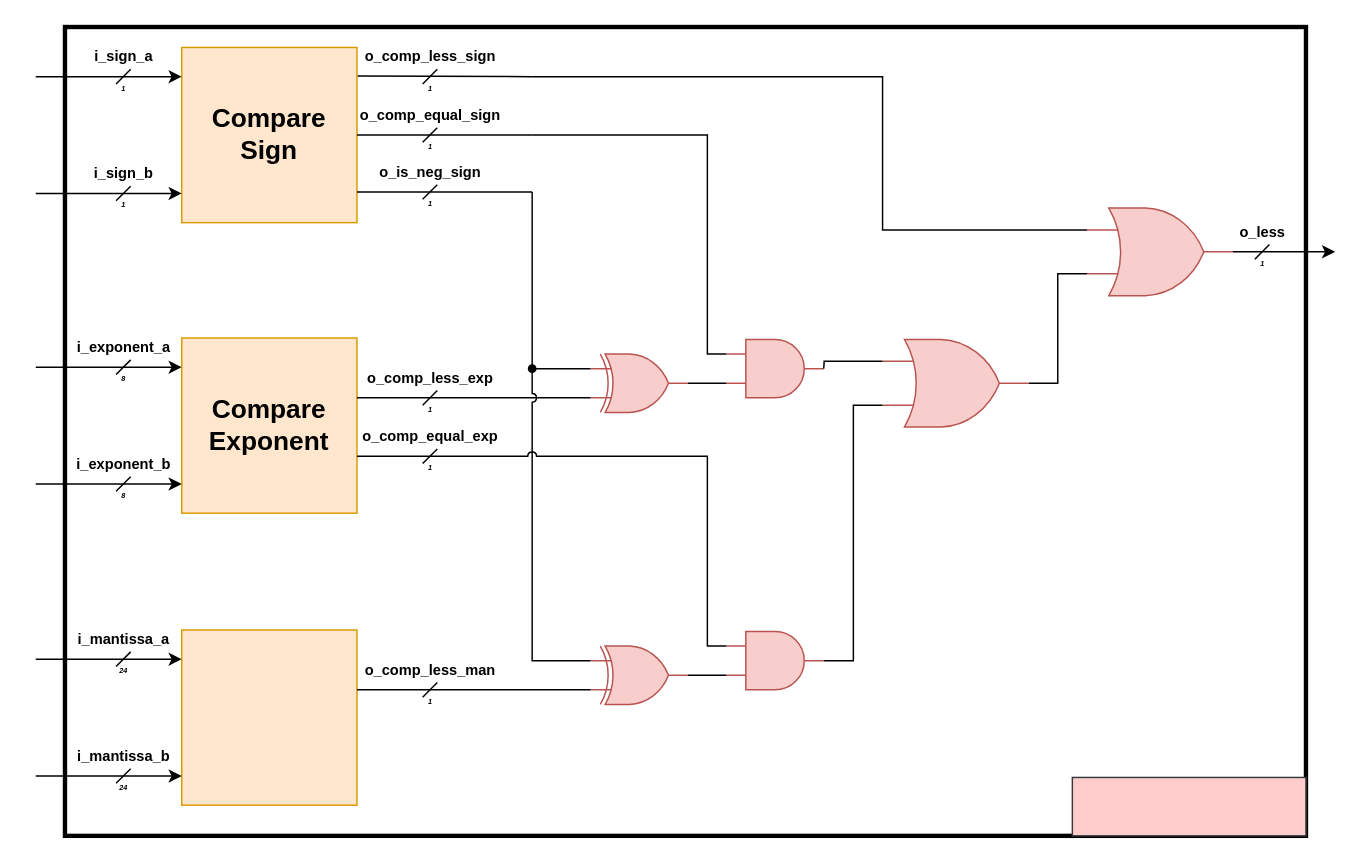
This 1372x863 diagram has some shape labels left out. Here are the shapes that lost their labels. From the top down, the box of each, then its label:
(180, 629, 357, 805): Compare Mantissa
(1071, 776, 1306, 836): COMP_LESS_FPU
